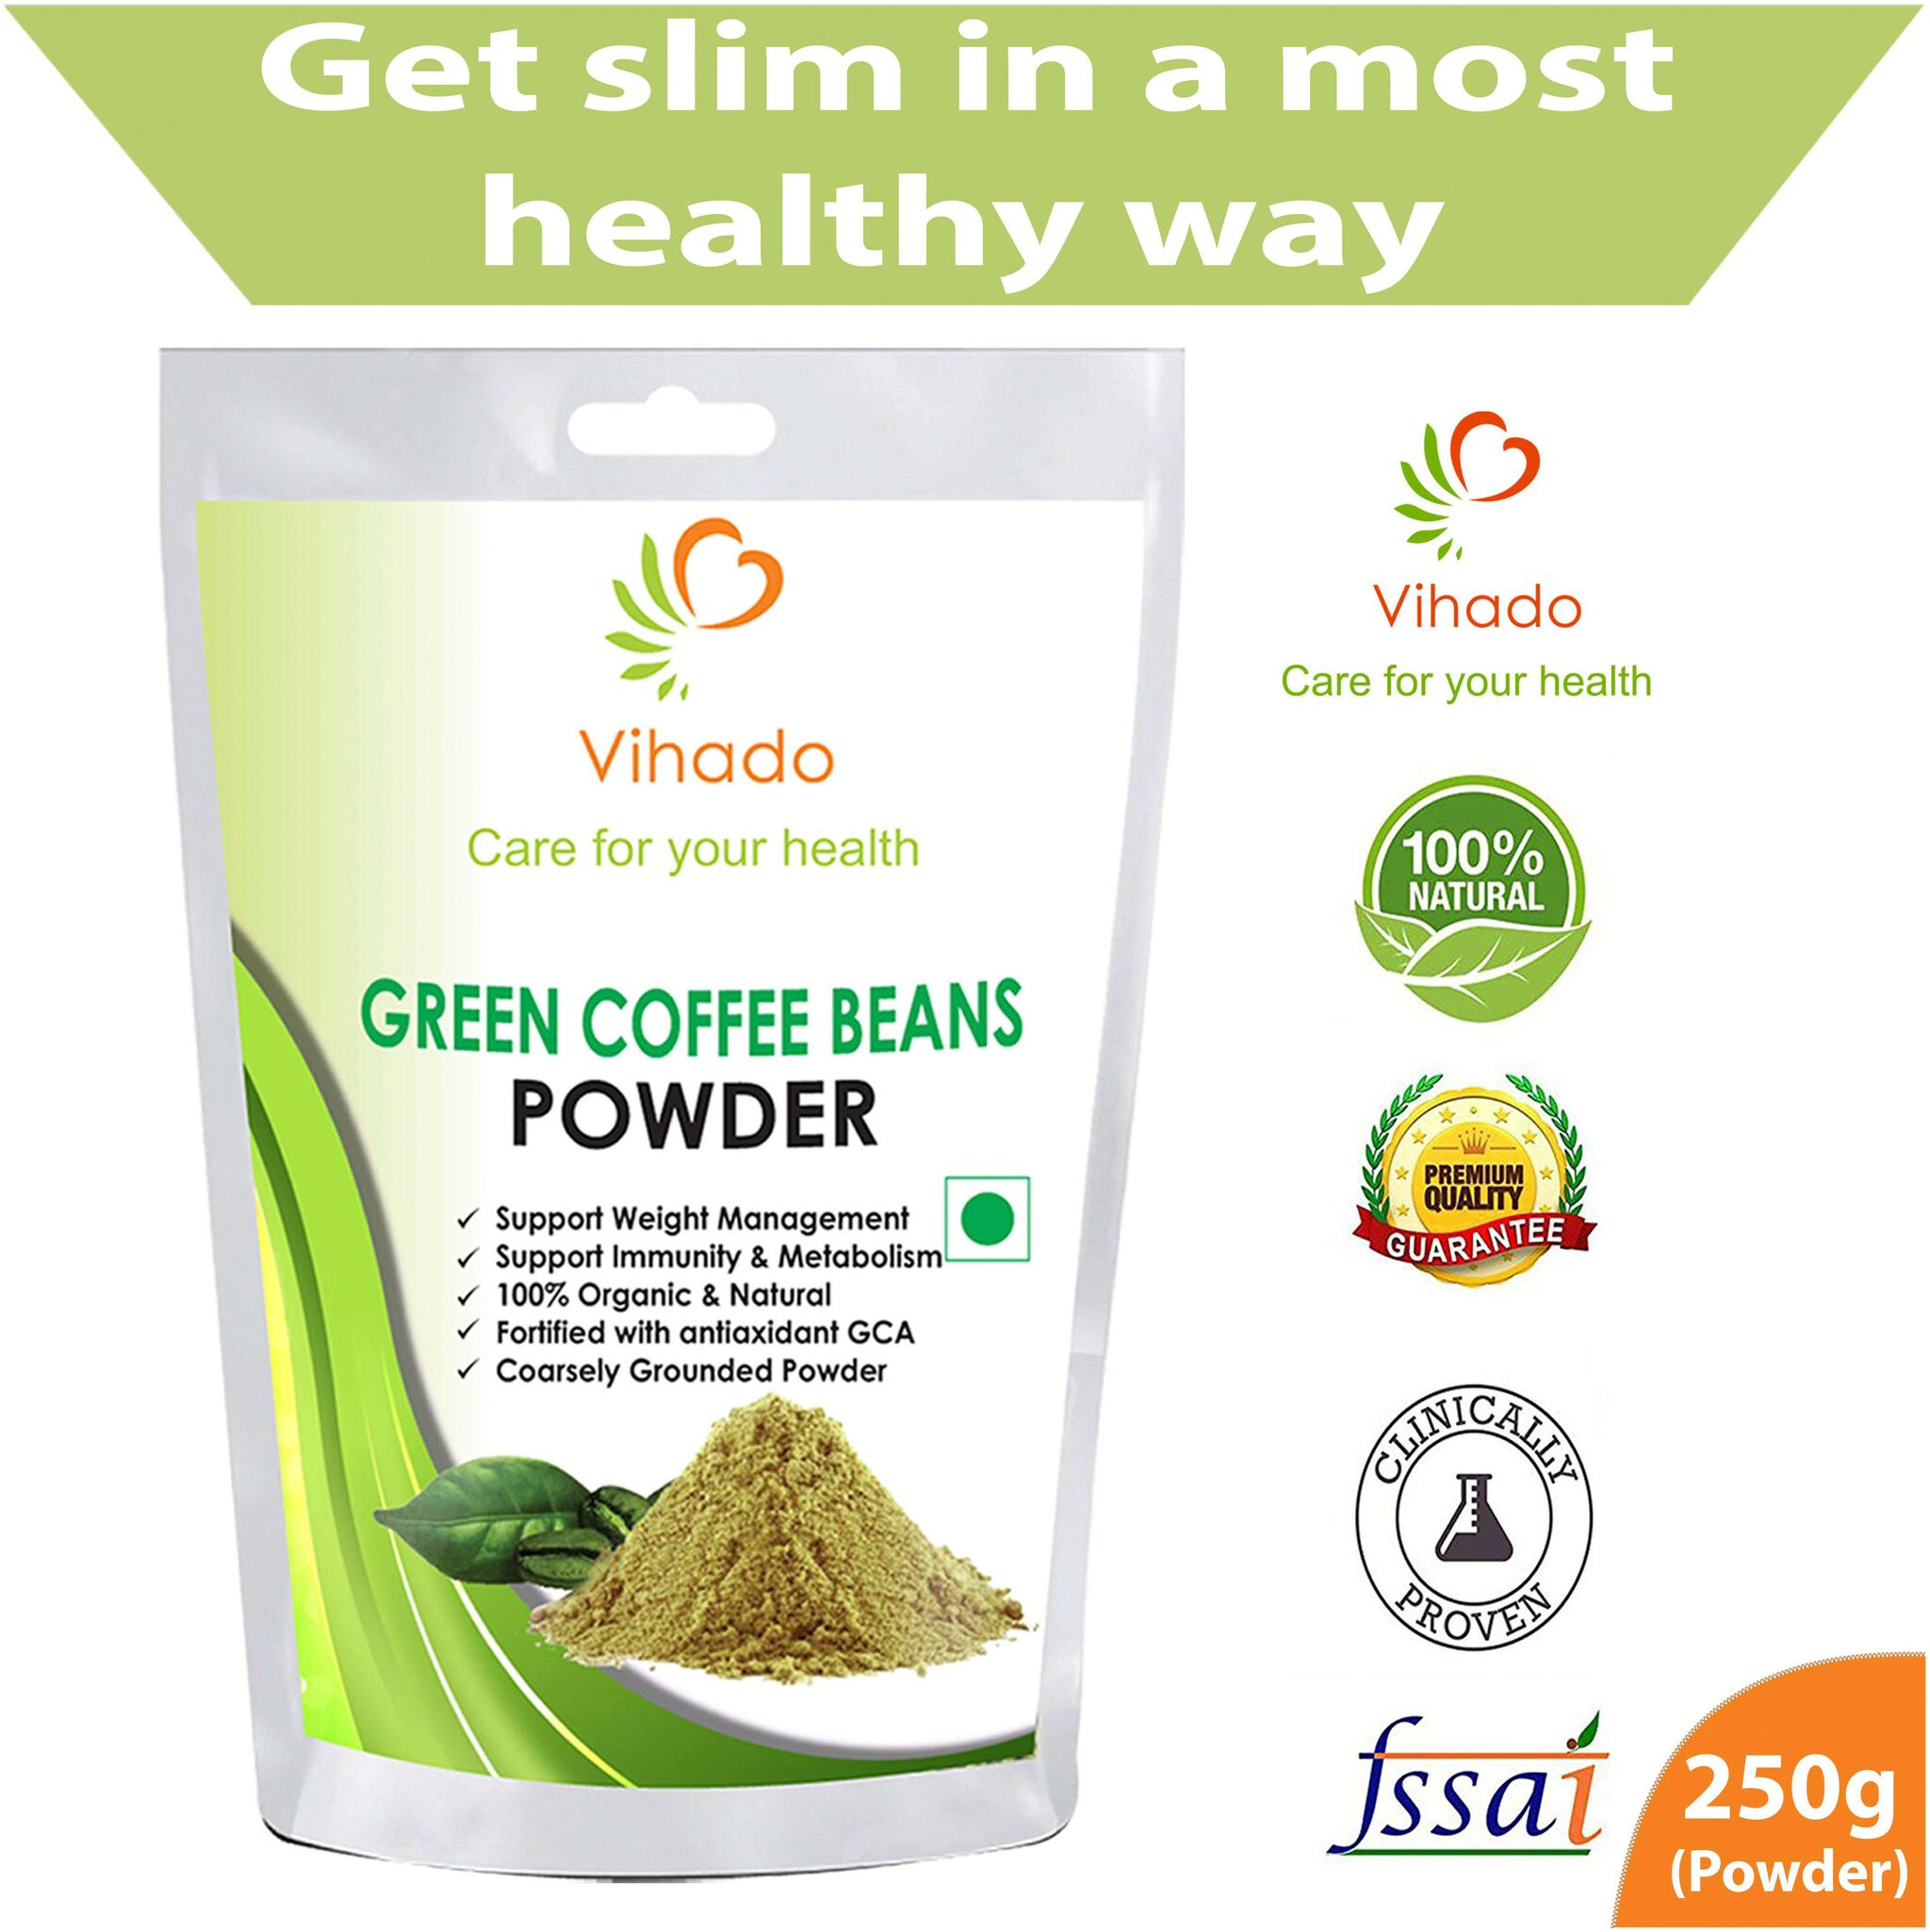fsaai: (1324, 1711, 1612, 1860)
